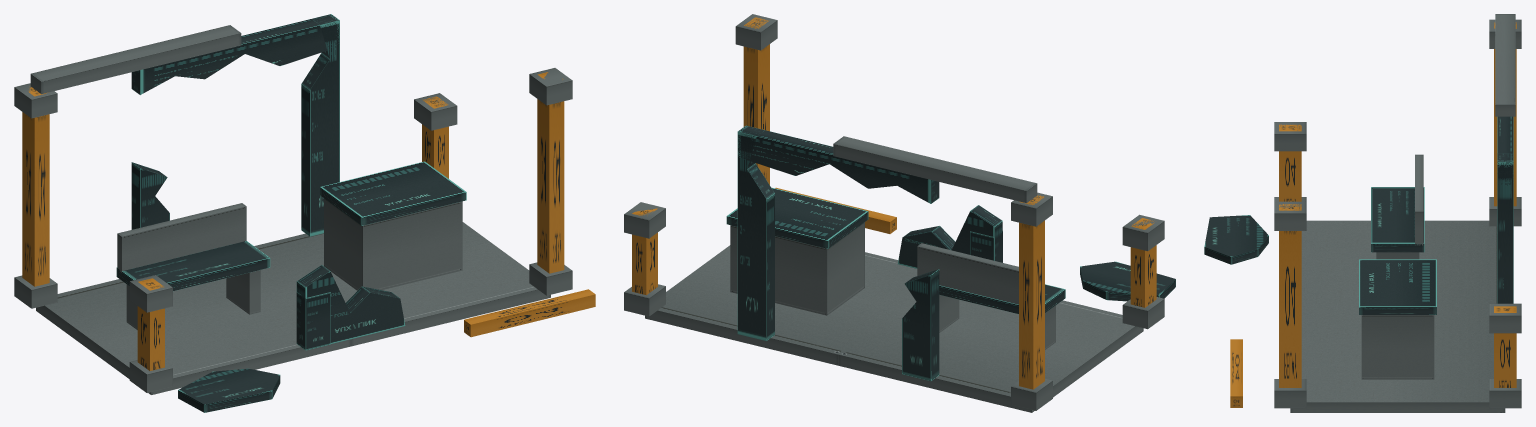
The model's file is WreckWorkshop_LOD3.obj.
The picture shows the model from 3 angles, left to right: view 1: azimuth 30°, elevation 25°; view 2: azimuth 150°, elevation 25°; view 3: azimuth 270°, elevation 25°; orthographic projection. The views are drawn at different scales.
Visible parts, largest first — view 1: 000_floor_4m.023, 009_generator.003, 007_wall_breach_4m.003, 001_floor_4m.015, 008_workbench.003, 003_column_4m.003, 004_column_4m.003, 012_wall_fragment.003, 006_beam_4m.003, 002_column_broken.003, 011_debris_panel.003, 010_debris_beam.003 (+1 smaller); view 2: 007_wall_breach_4m.003, 000_floor_4m.023, 001_floor_4m.015, 009_generator.003, 004_column_4m.003, 008_workbench.003, 006_beam_4m.003, 002_column_broken.003, 005_column_broken.003, 003_column_4m.003, 012_wall_fragment.003, 011_debris_panel.003 (+1 smaller); view 3: 001_floor_4m.015, 000_floor_4m.023, 009_generator.003, 003_column_4m.003, 008_workbench.003, 007_wall_breach_4m.003, 005_column_broken.003, 011_debris_panel.003, 002_column_broken.003, 006_beam_4m.003, 004_column_4m.003, 010_debris_beam.003.
Part boxes in pixels (x1,y1,x2,y2): 000_floor_4m.023: (36, 269, 350, 394); 009_generator.003: (320, 161, 466, 290); 007_wall_breach_4m.003: (131, 14, 339, 236); 001_floor_4m.015: (254, 222, 550, 346); 008_workbench.003: (116, 203, 270, 329); 003_column_4m.003: (529, 68, 572, 295); 004_column_4m.003: (14, 83, 57, 308); 012_wall_fragment.003: (296, 265, 405, 350); 006_beam_4m.003: (30, 25, 241, 94); 002_column_broken.003: (129, 275, 172, 392); 011_debris_panel.003: (178, 368, 280, 412); 010_debris_beam.003: (464, 289, 595, 337); 007_wall_breach_4m.003: (737, 125, 939, 381); 000_floor_4m.023: (838, 299, 1143, 412); 001_floor_4m.015: (645, 245, 917, 365); 009_generator.003: (726, 187, 868, 315); 004_column_4m.003: (1011, 192, 1052, 410); 008_workbench.003: (917, 243, 1065, 349); 006_beam_4m.003: (833, 136, 1037, 202); 002_column_broken.003: (1122, 214, 1164, 329); 005_column_broken.003: (624, 202, 665, 316); 003_column_4m.003: (735, 14, 777, 184); 012_wall_fragment.003: (897, 205, 1002, 268); 011_debris_panel.003: (1080, 261, 1175, 301); 001_floor_4m.015: (1290, 311, 1505, 412); 000_floor_4m.023: (1301, 220, 1497, 311); 009_generator.003: (1359, 259, 1436, 379); 003_column_4m.003: (1274, 201, 1306, 408); 008_workbench.003: (1371, 154, 1424, 259); 007_wall_breach_4m.003: (1497, 116, 1513, 303); 005_column_broken.003: (1489, 303, 1521, 408); 011_debris_panel.003: (1204, 215, 1268, 264); 002_column_broken.003: (1274, 122, 1306, 201); 006_beam_4m.003: (1495, 14, 1515, 116); 004_column_4m.003: (1489, 19, 1521, 226); 010_debris_beam.003: (1230, 339, 1242, 407).
Size of the model in its own units: 8.52 by 4.46 by 5.9.
Materials: 1 (1 with a texture image).
